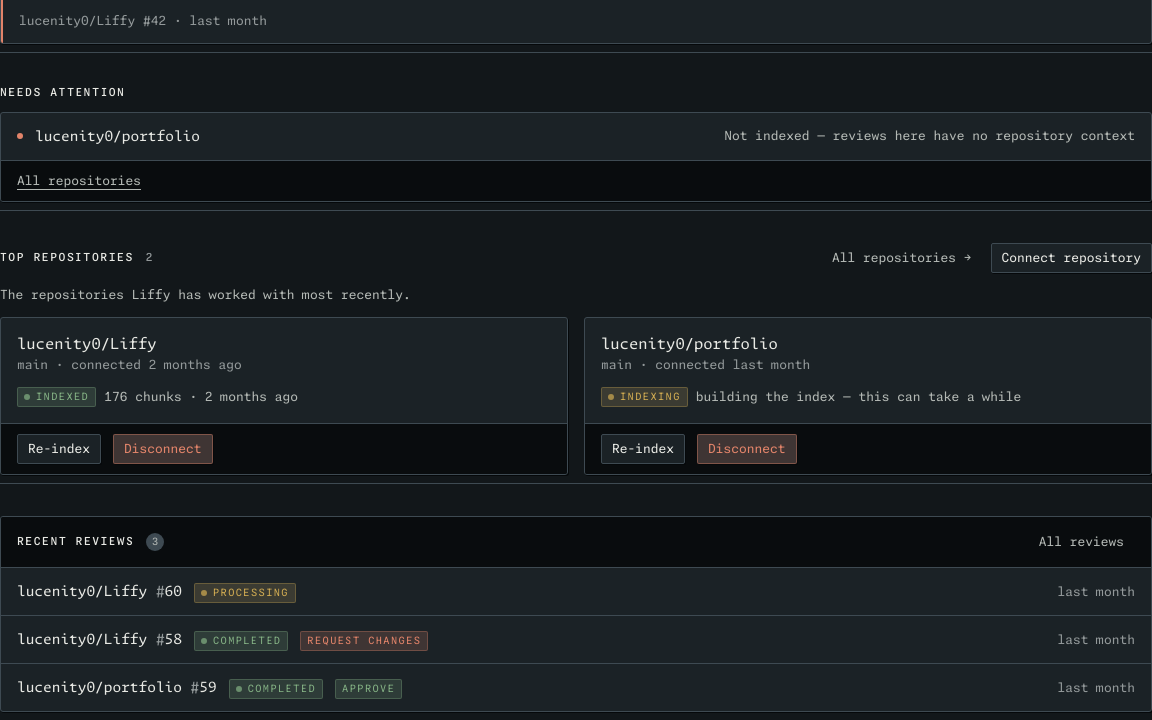
Dashboard — repo actions › cancelling the confirm leaves the repo alone
The image size is (1152, 720).
(page scrolled)
Click the button "Disconnect" below "Indexing" at (747, 449), box [697,434,796,464]
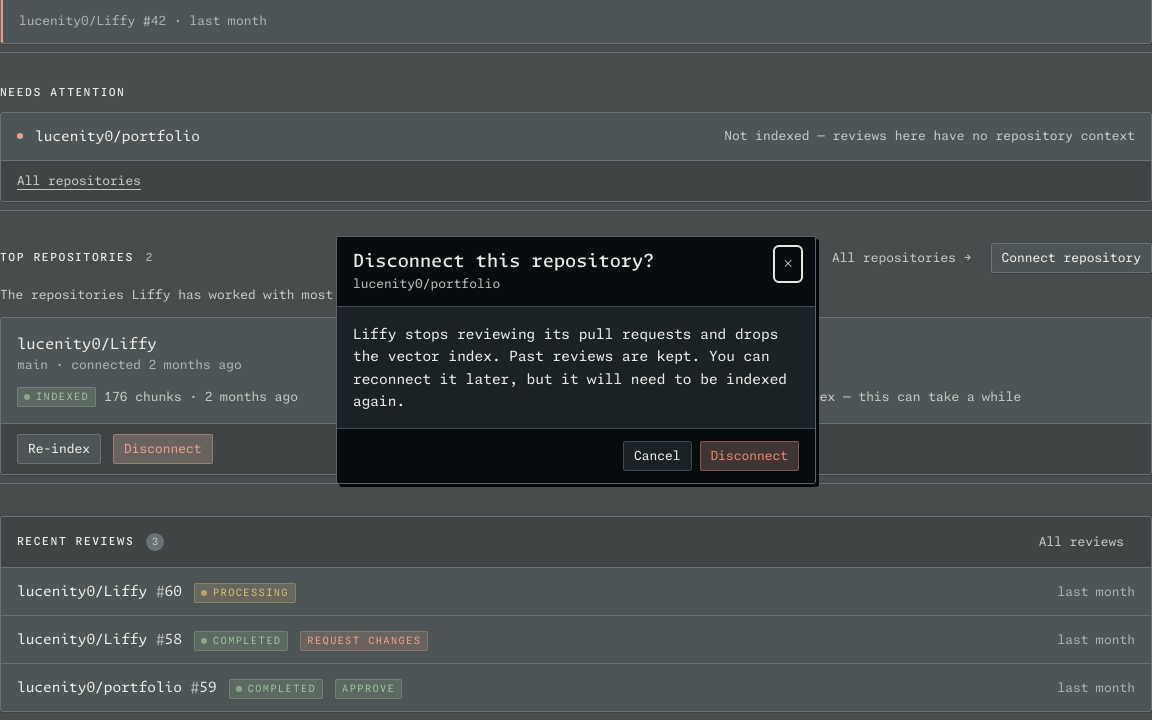
Click the button "Cancel" at (657, 456), box [623,442,692,472]
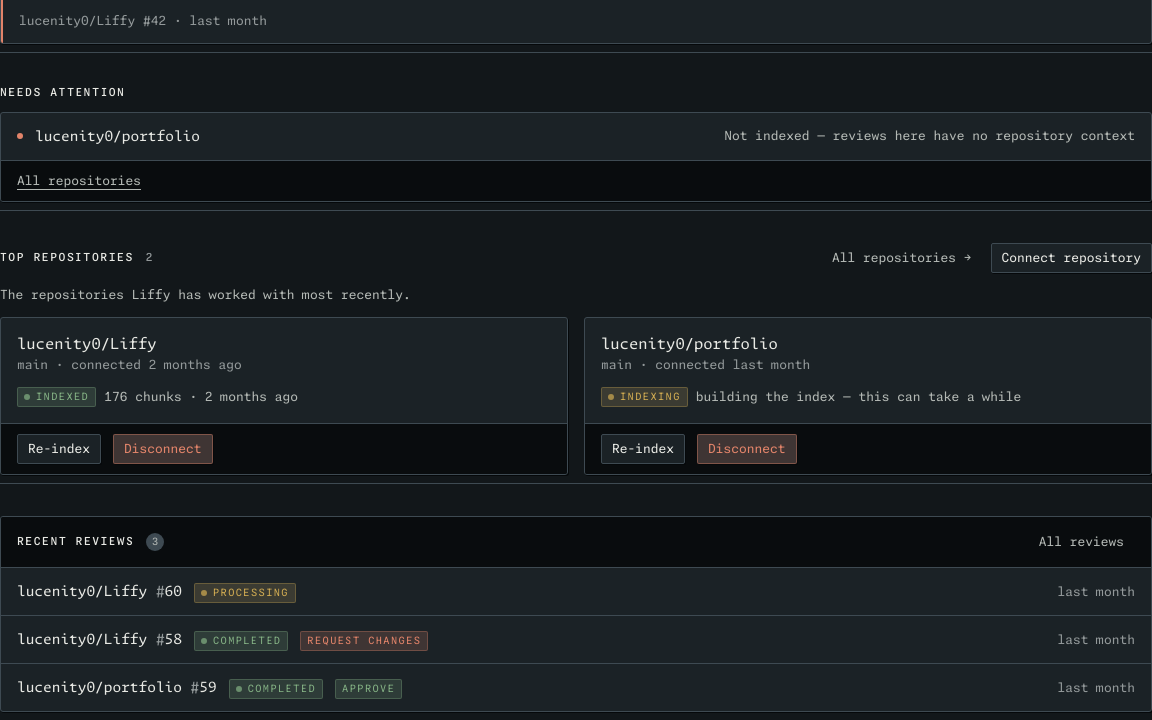
Check: the dialog is gone
